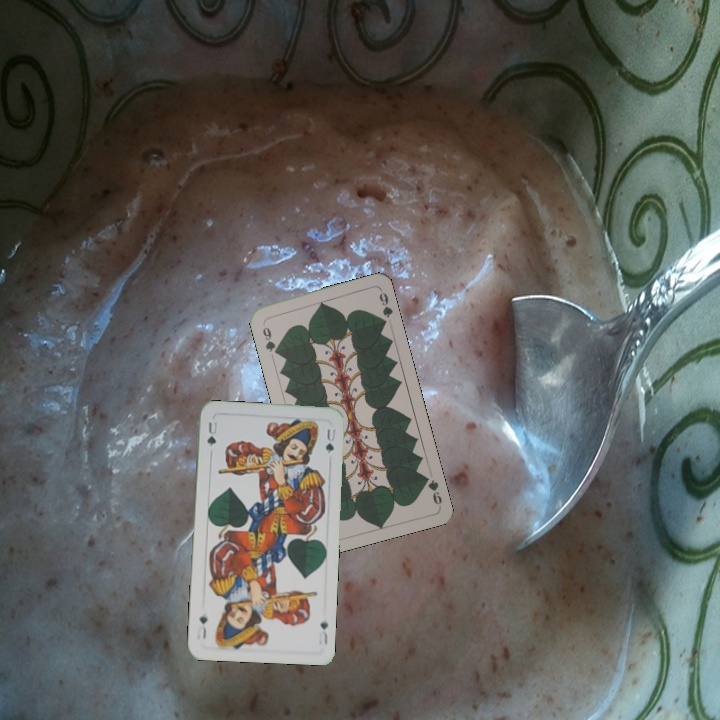G9: (419, 471, 445, 509), (258, 319, 281, 357)
GU: (203, 418, 219, 449), (316, 617, 330, 648)
